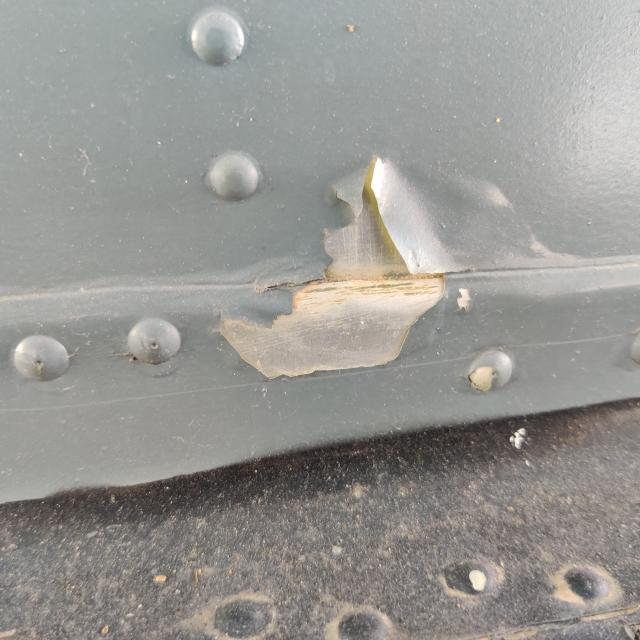paint-off: (198, 141, 476, 399)
